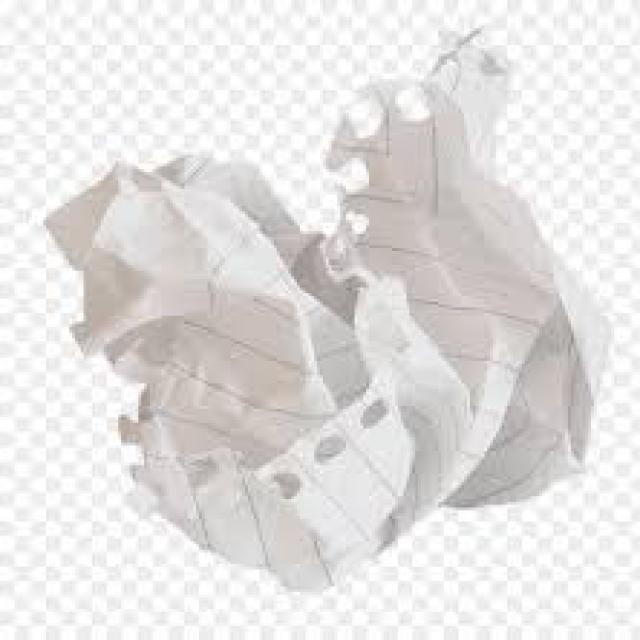Paper: (39, 33, 594, 600)
